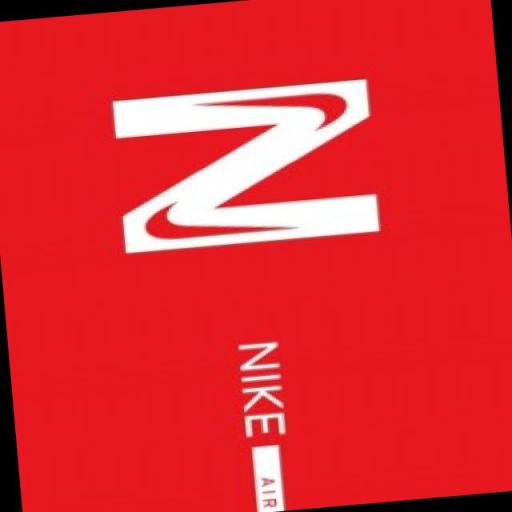Nike: (224, 332, 294, 445)
